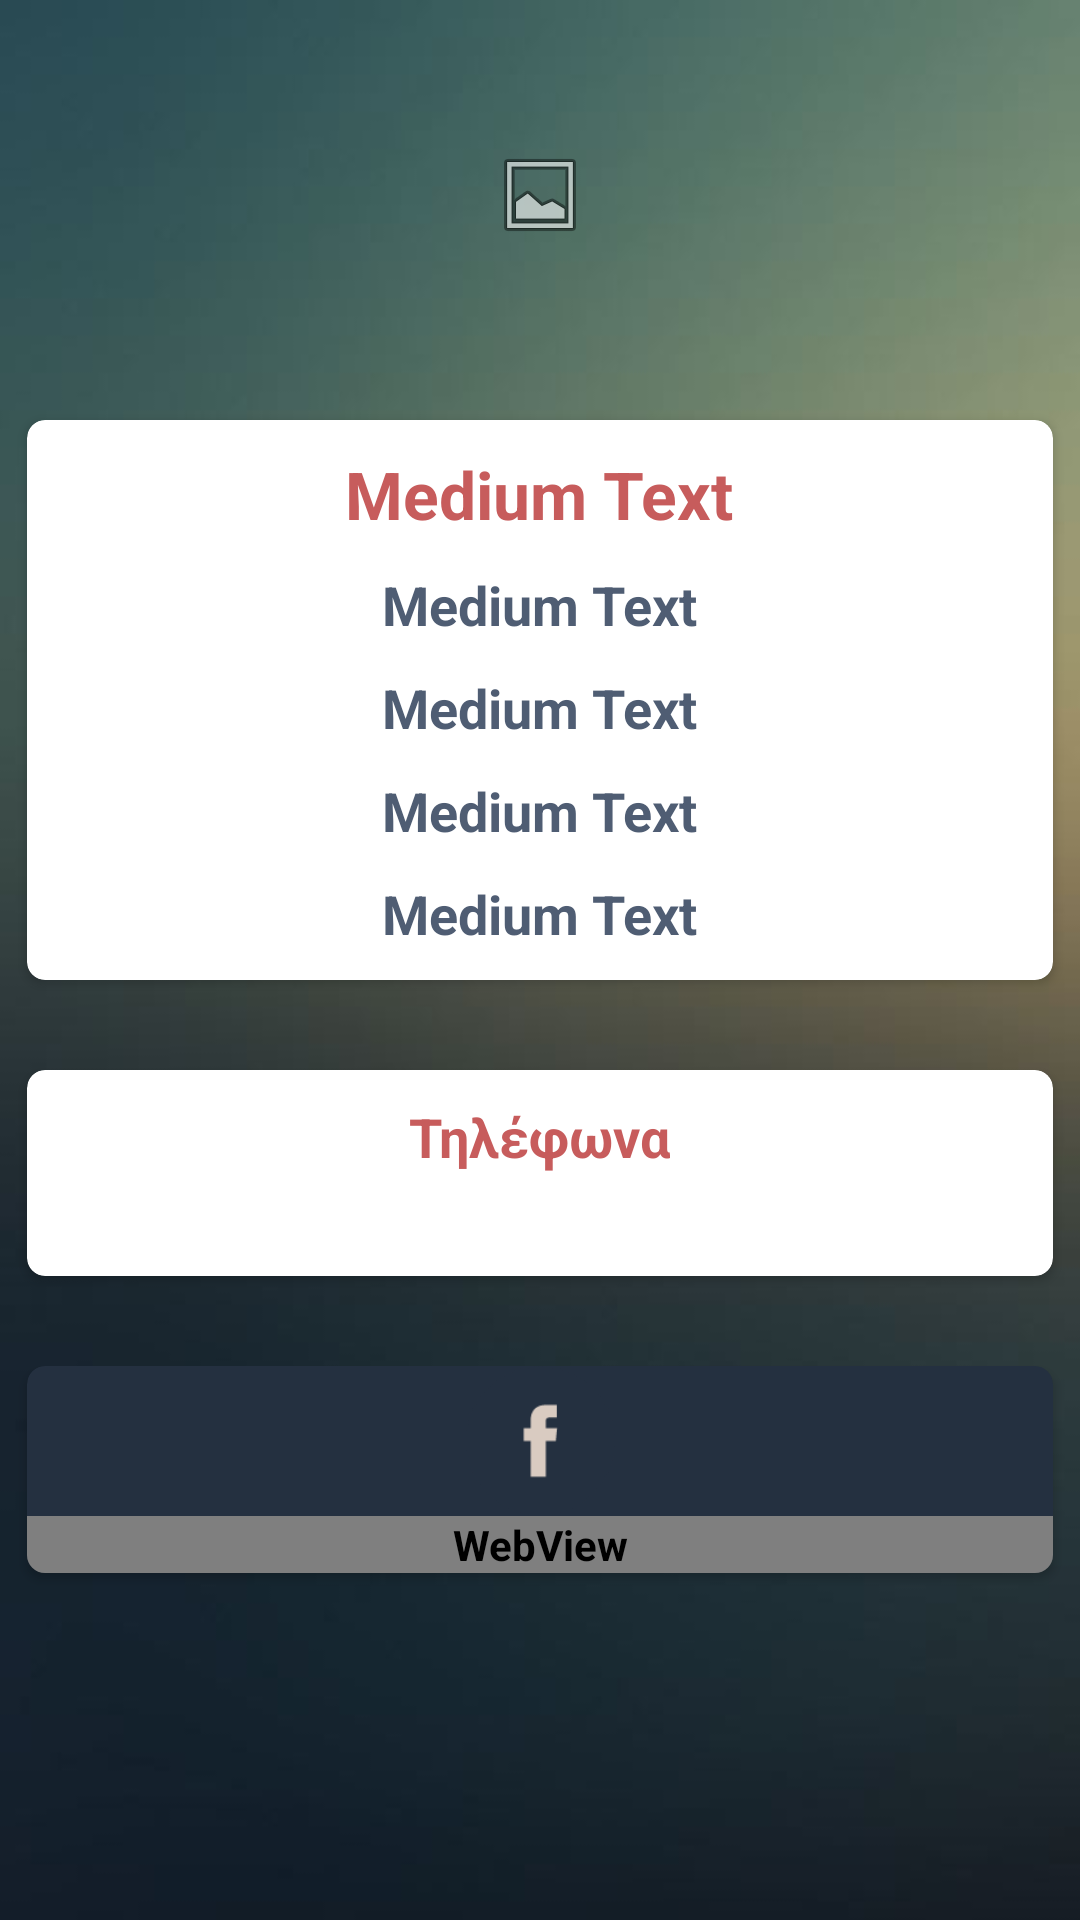

Icon bounding boxes for this 1080*1920 phone screenshot, format BBox(x1, y1, x2, y2):
gallery: BBox(504, 159, 576, 231)
